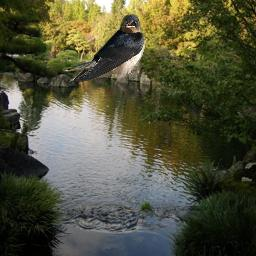Swallow: (61, 14, 146, 82)
